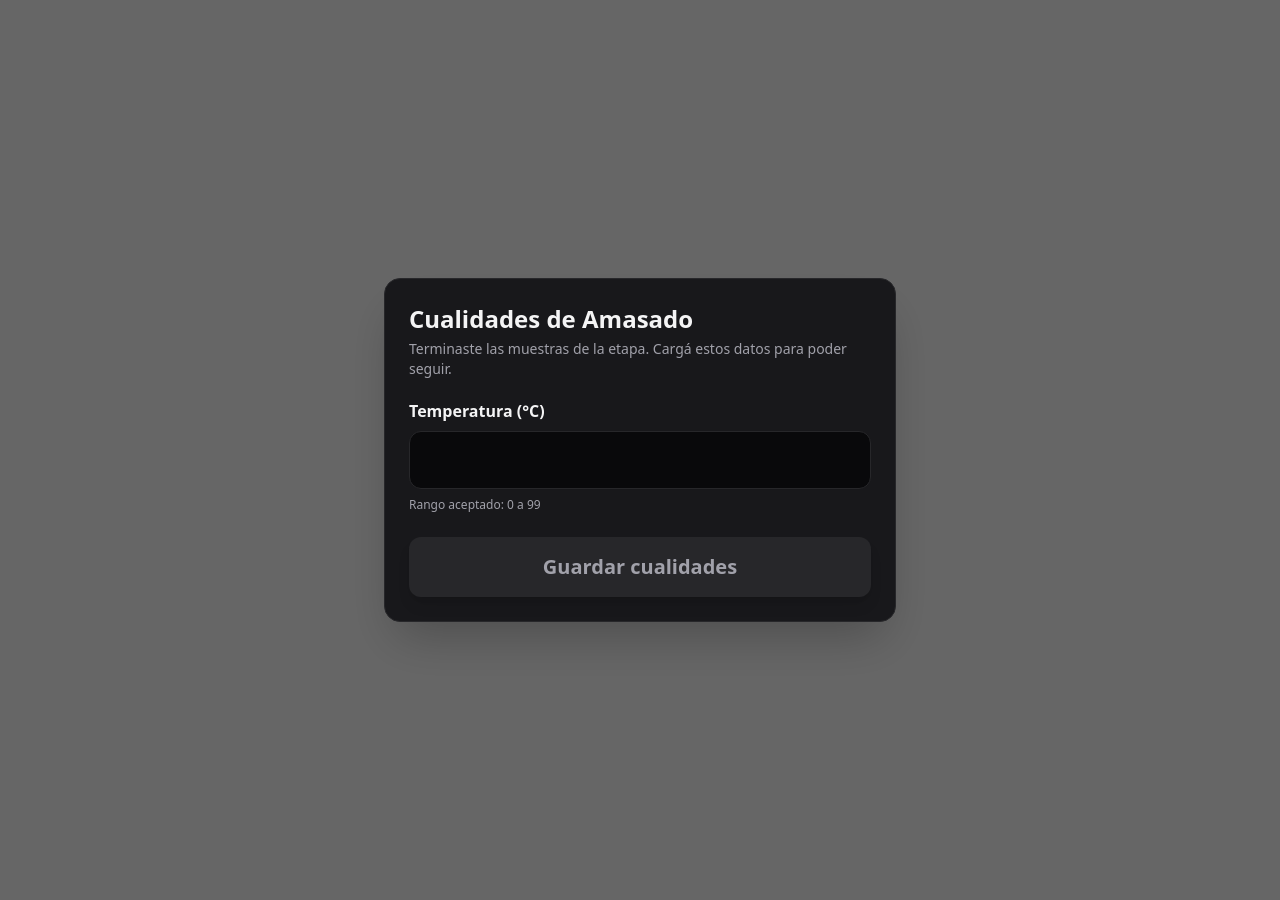
Test: CualidadesDialog › keeps the dialog open with an error when saving fails, and lets the operator retry
Type "10" into the number field named "Temperatura (°C)" at (640, 460), box [409, 431, 871, 489]
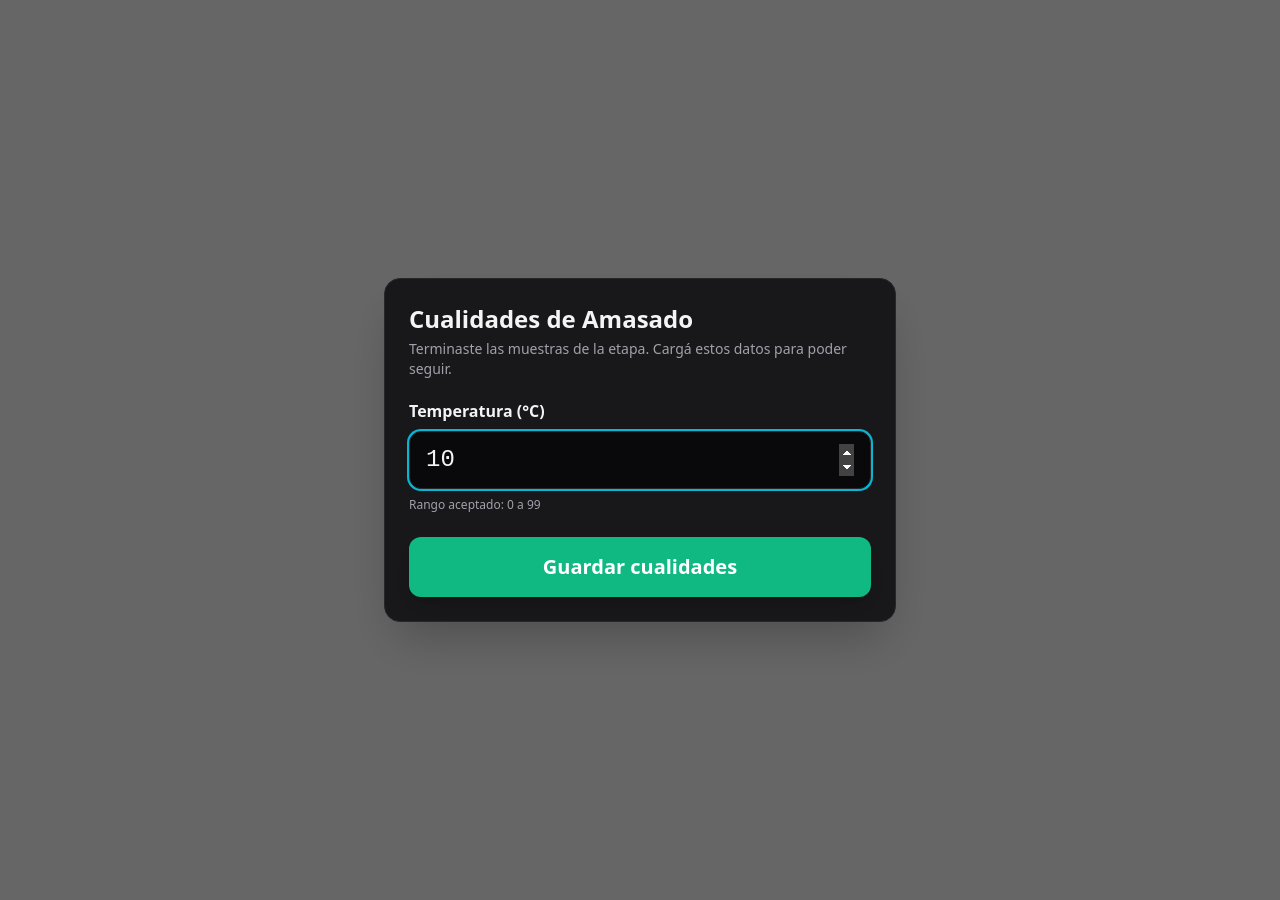
Click the button "Guardar cualidades" at (640, 567), box [409, 537, 871, 597]
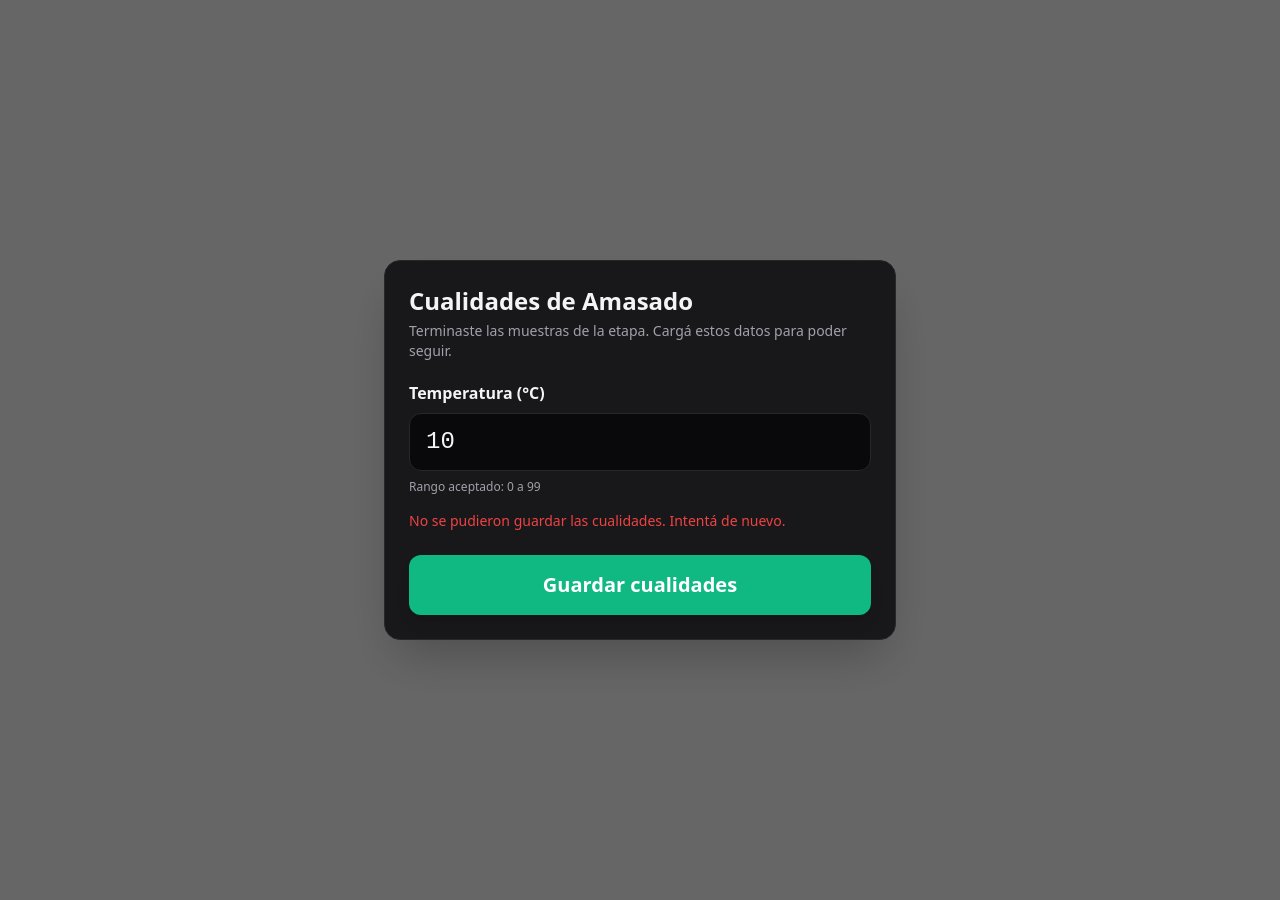
Expected: the dialog is shown, [384, 260, 896, 640]
Expected: the message shows "No se pudieron guardar las cualidades", [409, 511, 785, 530]
Click the button "Guardar cualidades" at (640, 585), box [409, 555, 871, 615]
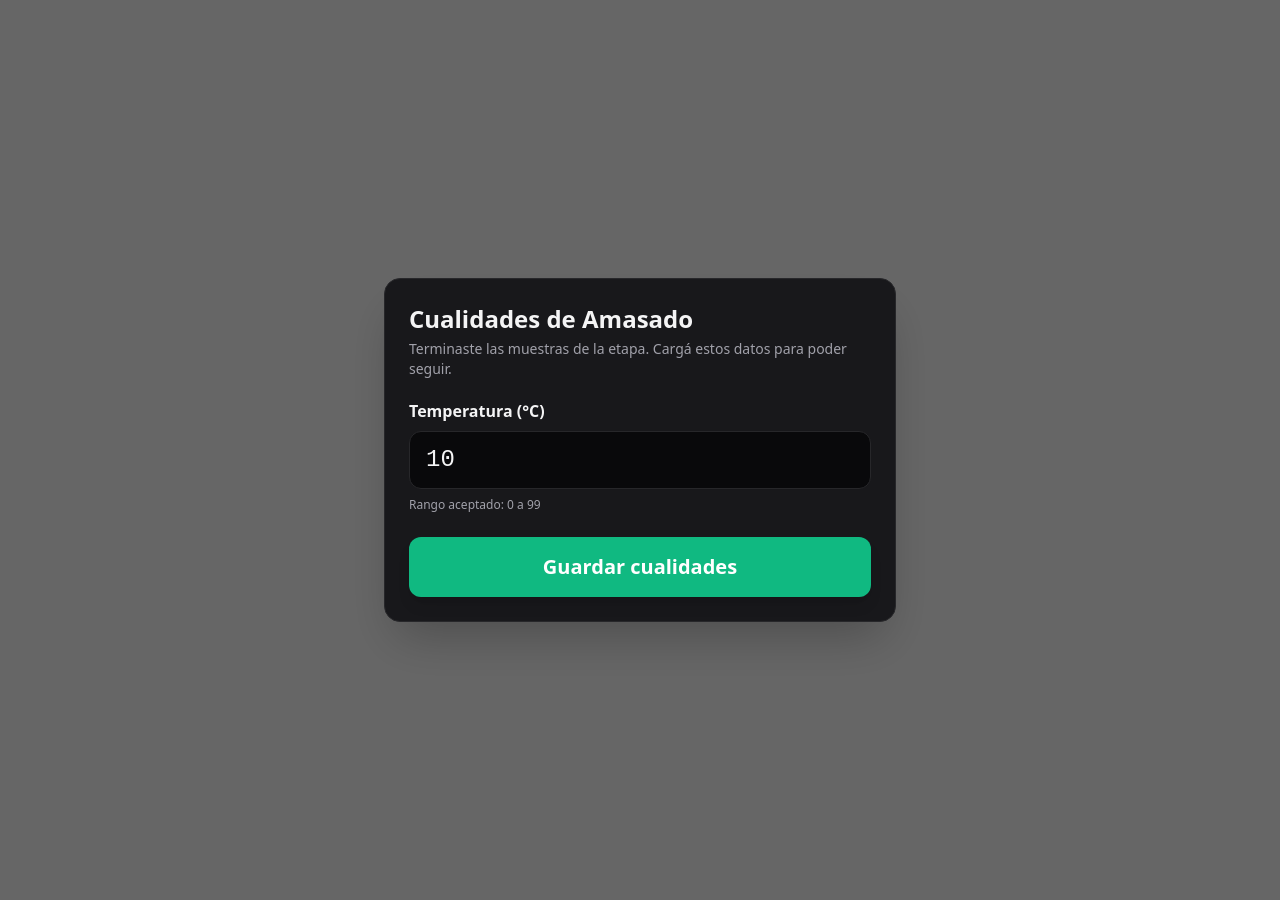
Expected: the message "No se pudieron guardar las cualidades. Intentá de nuevo." is gone
